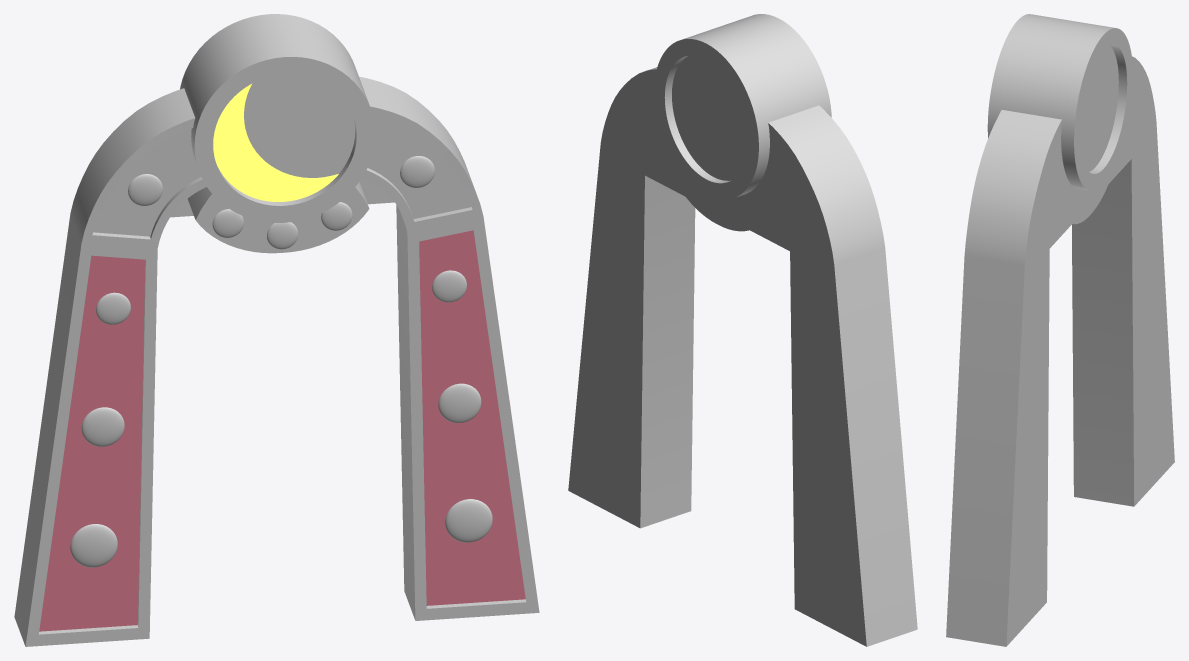
Rendered from Arch right.fbx.
3 views of the same model, side by side, from view 1: azimuth 30°, elevation 25°; view 2: azimuth 150°, elevation 25°; view 3: azimuth 270°, elevation 25° (orthographic). The views are drawn at different scales.
Visible parts, largest first — view 1: Circle; view 2: Circle; view 3: Circle.
Boxes of the visible parts, left/top/right/bottom form: Circle: left=14, top=14, right=539, bottom=646; Circle: left=568, top=14, right=917, bottom=646; Circle: left=946, top=14, right=1174, bottom=646.
Size of the model in its own units: 752 by 940 by 374.
